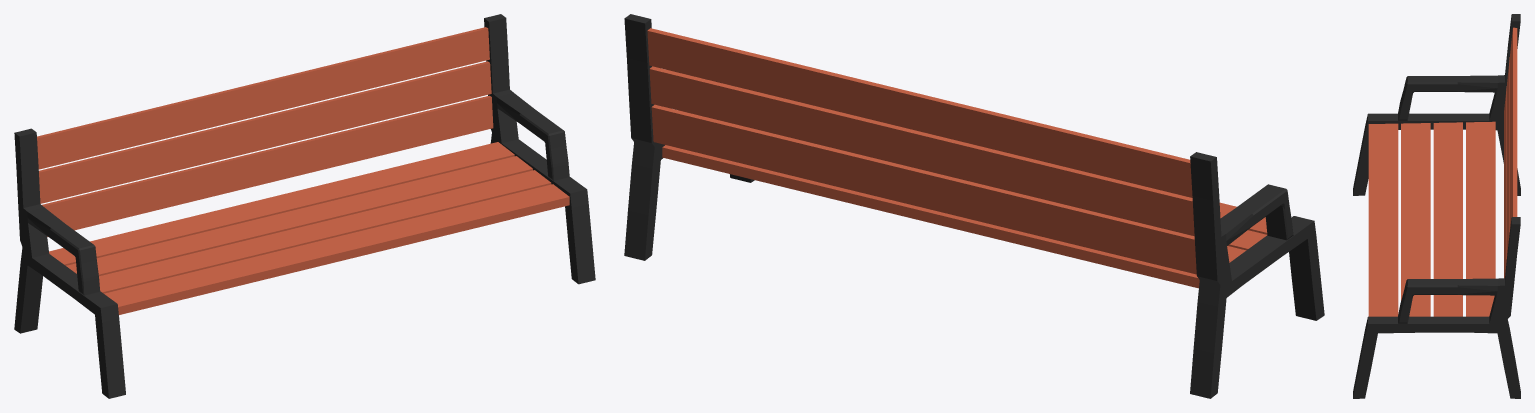
File: Bench_2.fbx
3 views of the same model, side by side, from view 1: azimuth 30°, elevation 25°; view 2: azimuth 150°, elevation 25°; view 3: azimuth 270°, elevation 25° (orthographic). The views are drawn at different scales.
Parts seen in each view (by area): view 1: bench_wood, Plane.002; view 2: bench_wood, Plane.002; view 3: bench_wood, Plane.002.
Boxes of the visible parts, <box> form: bench_wood: <box>37,27,569,314</box>; Plane.002: <box>14,14,595,398</box>; bench_wood: <box>647,28,1267,288</box>; Plane.002: <box>624,14,1324,398</box>; bench_wood: <box>1368,27,1517,316</box>; Plane.002: <box>1353,14,1520,398</box>.
Size of the model in its own units: 297 by 115 by 100.
